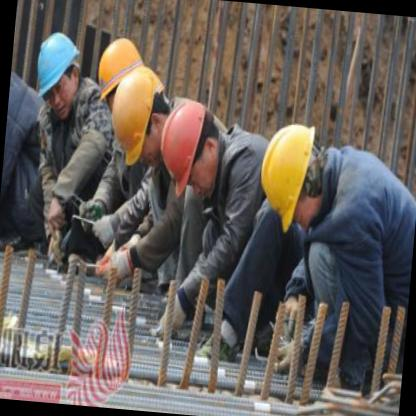helmet: (254, 118, 324, 226), (152, 96, 224, 193), (108, 62, 174, 167), (93, 32, 146, 138), (28, 26, 86, 119)
